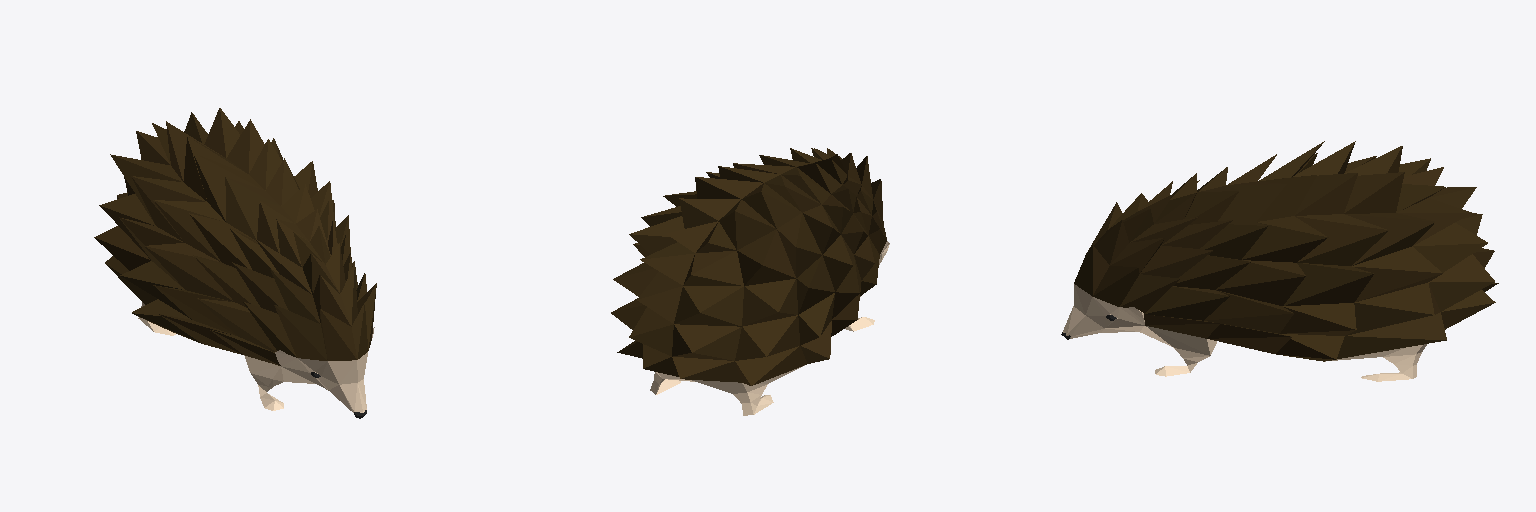
The picture shows the model from 3 angles: view 1: azimuth 30°, elevation 25°; view 2: azimuth 150°, elevation 25°; view 3: azimuth 270°, elevation 25°; orthographic projection.
Parts seen in each view (by area): view 1: hadgehog3_Untitled; view 2: hadgehog3_Untitled; view 3: hadgehog3_Untitled.
Boxes of the visible parts, x1,y1,x2,y2 form: hadgehog3_Untitled: [94, 108, 376, 418]; hadgehog3_Untitled: [611, 148, 889, 415]; hadgehog3_Untitled: [1061, 141, 1498, 381].
Size of the model in its own units: 0.1791 by 0.1731 by 0.3436.
Materials: 1 (1 with a texture image).